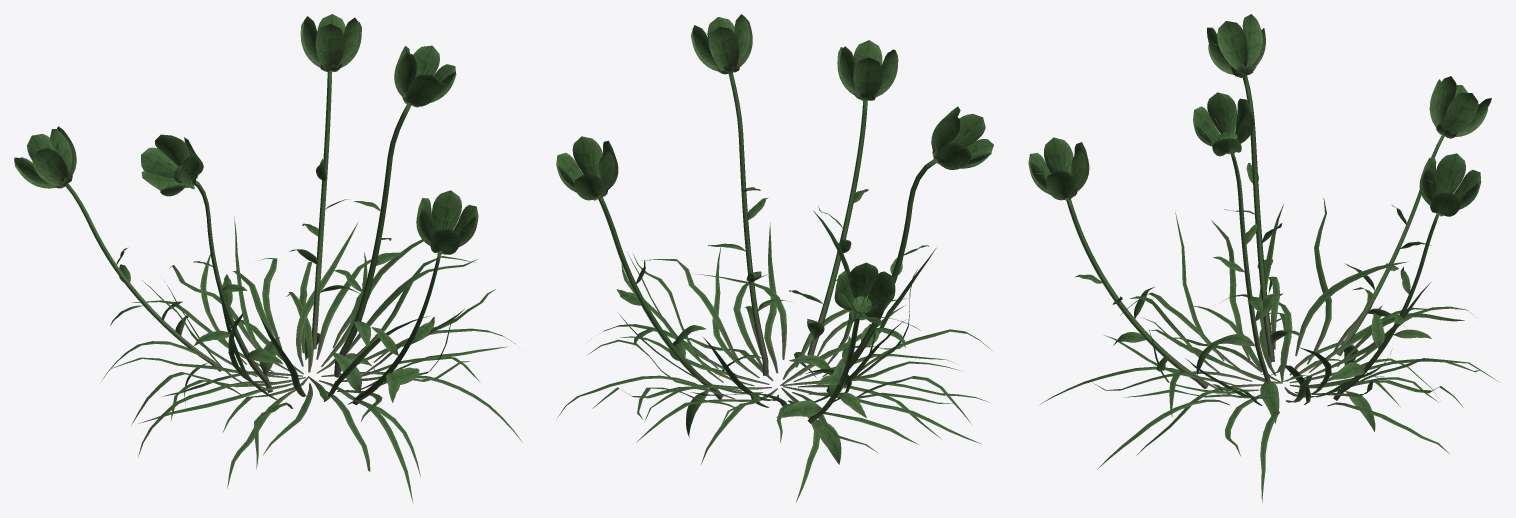
File: flowers_short_animation2.gltf
3 views of the same model, side by side, from view 1: azimuth 30°, elevation 25°; view 2: azimuth 150°, elevation 25°; view 3: azimuth 270°, elevation 25° (orthographic).
Visible parts, largest first — view 1: Coquelicot; view 2: Coquelicot; view 3: Coquelicot.
Part boxes in pixels (left/top/right/bottom): Coquelicot: left=14, top=14, right=522, bottom=503; Coquelicot: left=556, top=14, right=993, bottom=502; Coquelicot: left=1028, top=14, right=1499, bottom=502.
Size of the model in its own units: 1.69 by 1.51 by 1.7.
1 material, 1 textured.
